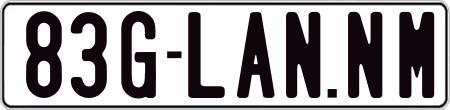3: (69, 9, 111, 96)
8: (26, 11, 62, 98)
A: (236, 12, 274, 102)
G: (119, 10, 159, 103)
L: (186, 11, 226, 100)
M: (398, 11, 437, 103)
N: (346, 11, 384, 103), (285, 11, 324, 99)
